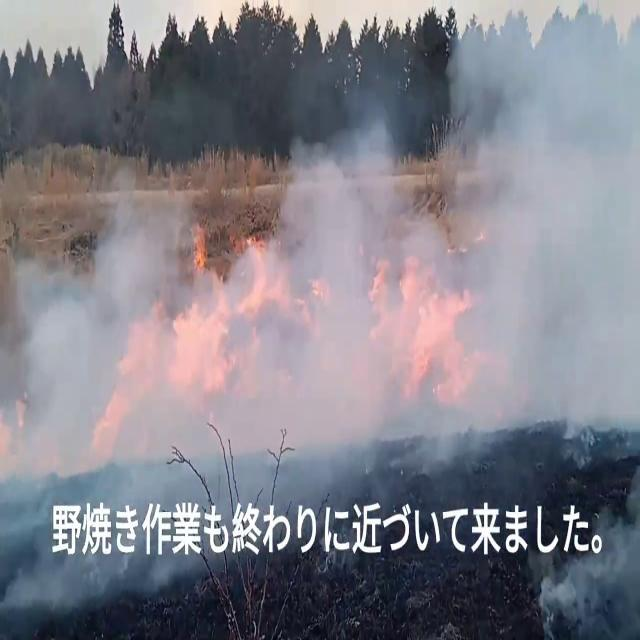Fire: (116, 200, 286, 396), (367, 248, 472, 398)
Smoke: (0, 123, 424, 470), (442, 0, 640, 462)
